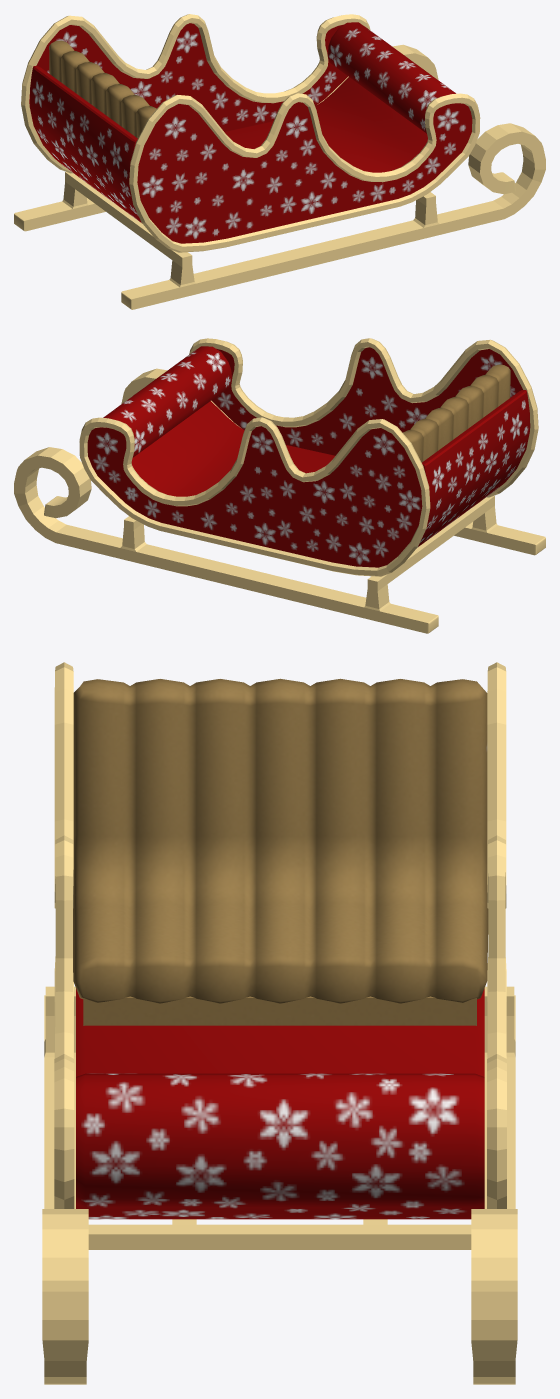
The picture shows the model from 3 angles, top to bottom: view 1: azimuth 30°, elevation 25°; view 2: azimuth 150°, elevation 25°; view 3: azimuth 270°, elevation 25°; orthographic projection. The views are drawn at different scales.
Parts seen in each view (by area): view 1: Sleigh_0; view 2: Sleigh_0; view 3: Sleigh_0.
Part boxes in pixels (x1,y1,x2,y2): Sleigh_0: (14,14,545,309); Sleigh_0: (14,338,545,633); Sleigh_0: (42,662,517,1384).
Bounding box in the file's own units: 1.95 × 0.895 × 0.9666.
1 material, 1 textured.
